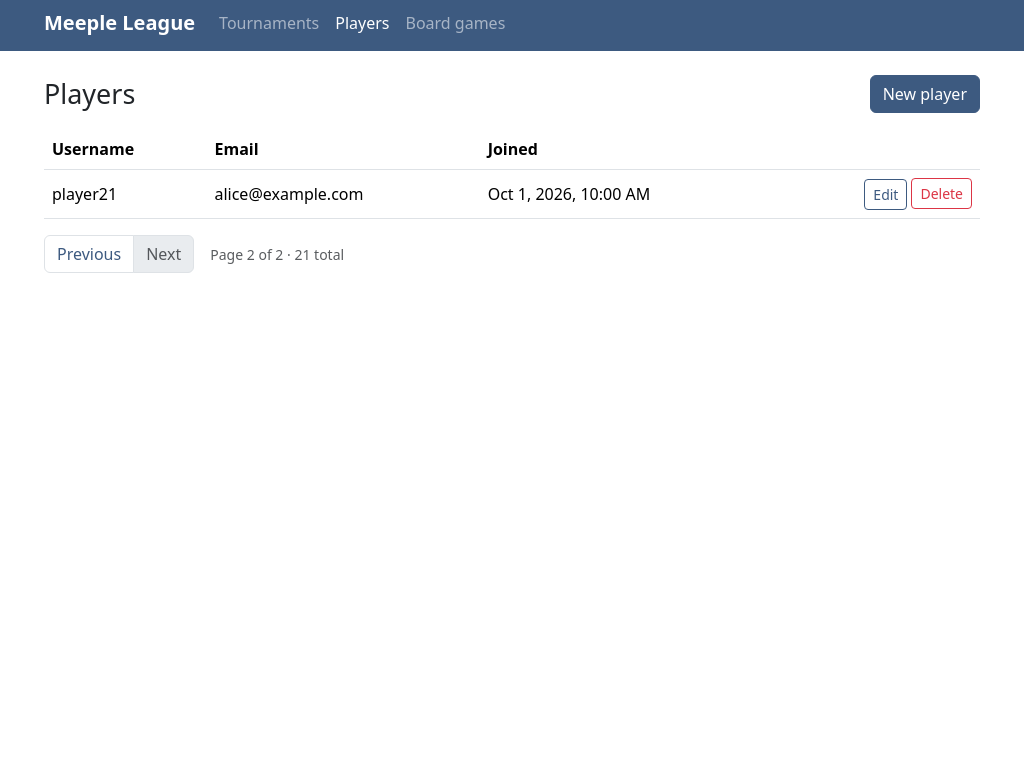
Test: players › moves back to the last page when its only item is deleted
Click the button "Delete": (942,194) [911,178,972,209]
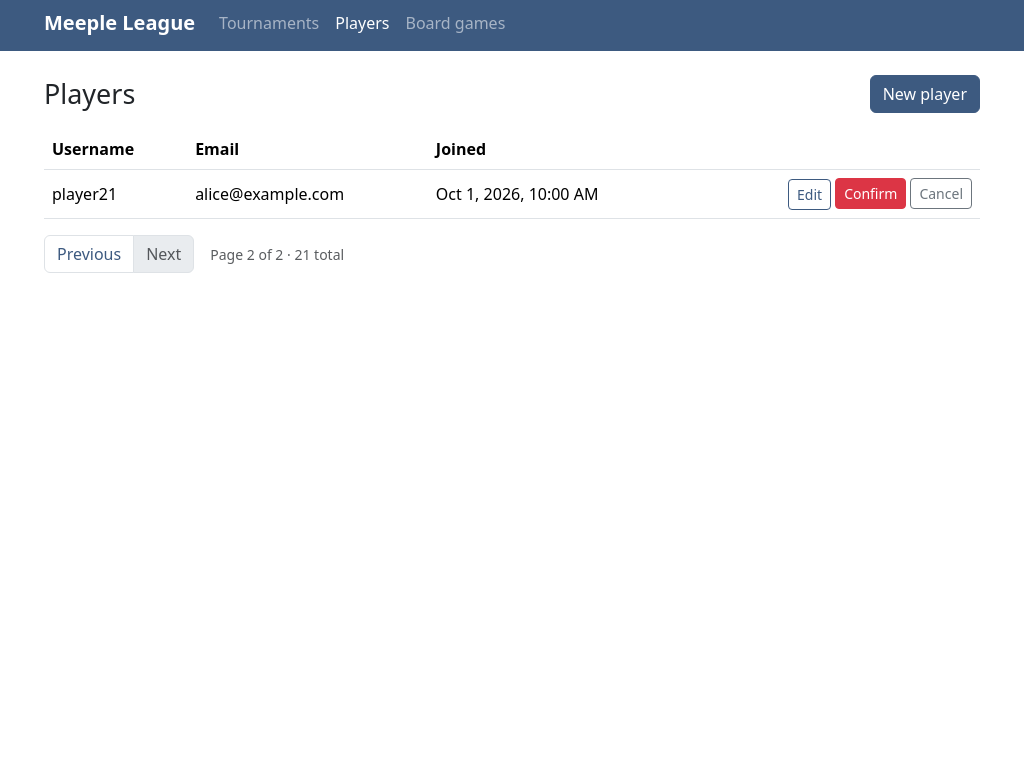
Click the button "Confirm": (871,194) [835,178,906,209]
(page scrolled)
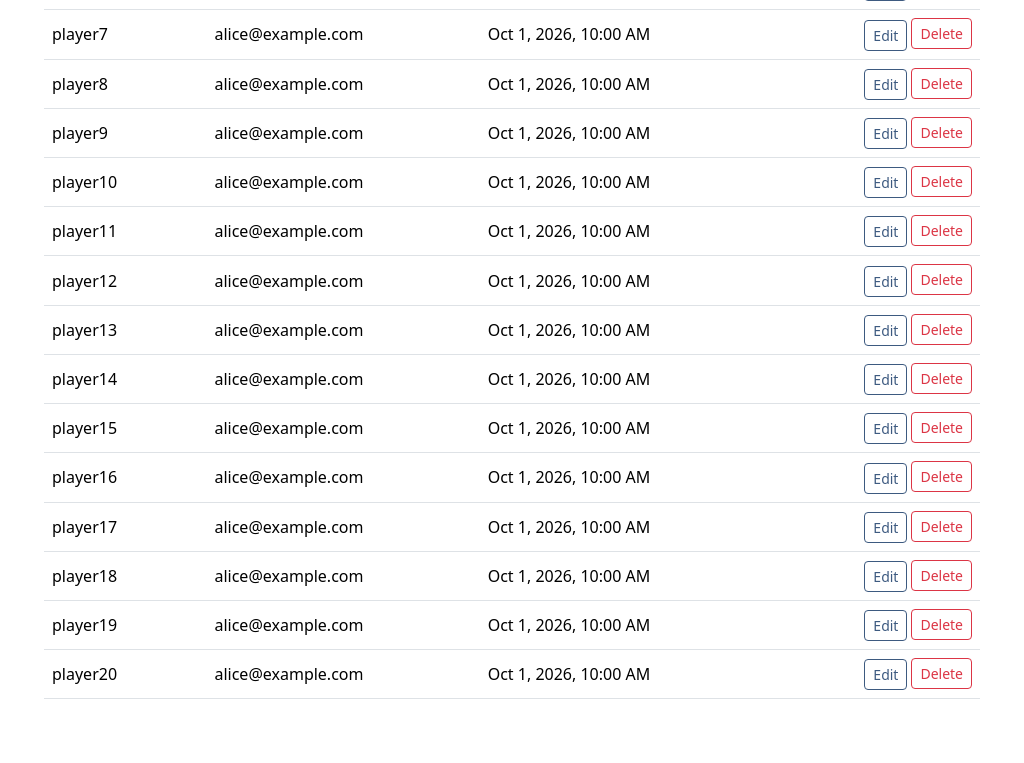
Check: the cell "player20" is shown, box [44,650,206,699]
